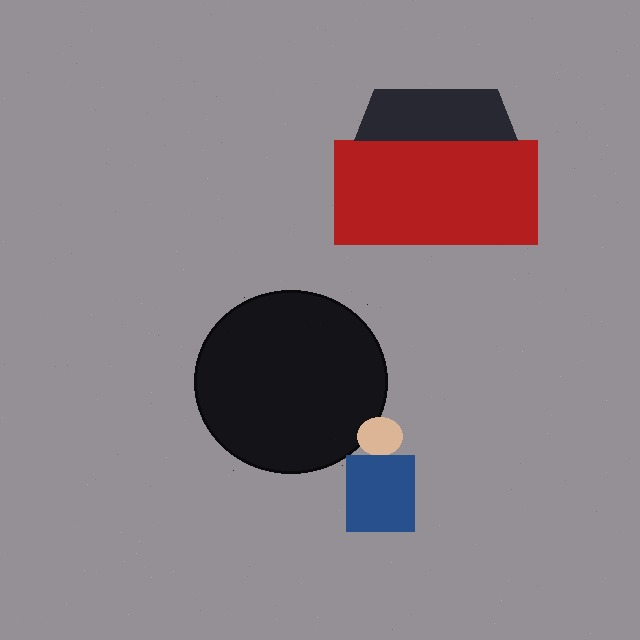person: (312, 417, 448, 531)
pothole: (194, 290, 387, 473)
vehicle: (334, 89, 537, 244)
